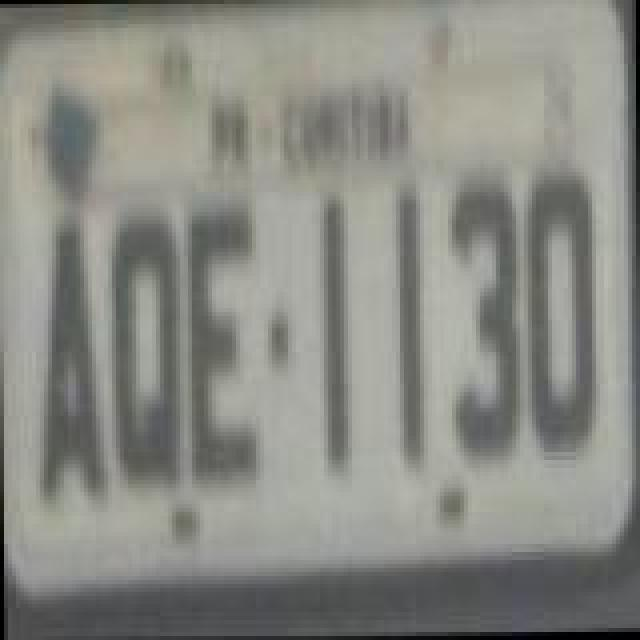1: (320, 196, 352, 472), (392, 196, 424, 468)
3: (446, 176, 522, 472)
A: (34, 216, 110, 512)
E: (186, 208, 262, 488)
O: (522, 170, 598, 462)
Q: (110, 206, 186, 494)
